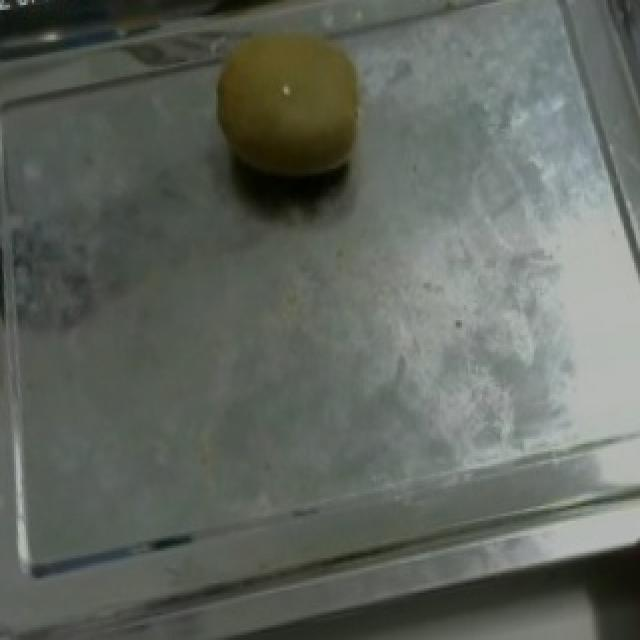Fruit: (190, 2, 394, 224)
